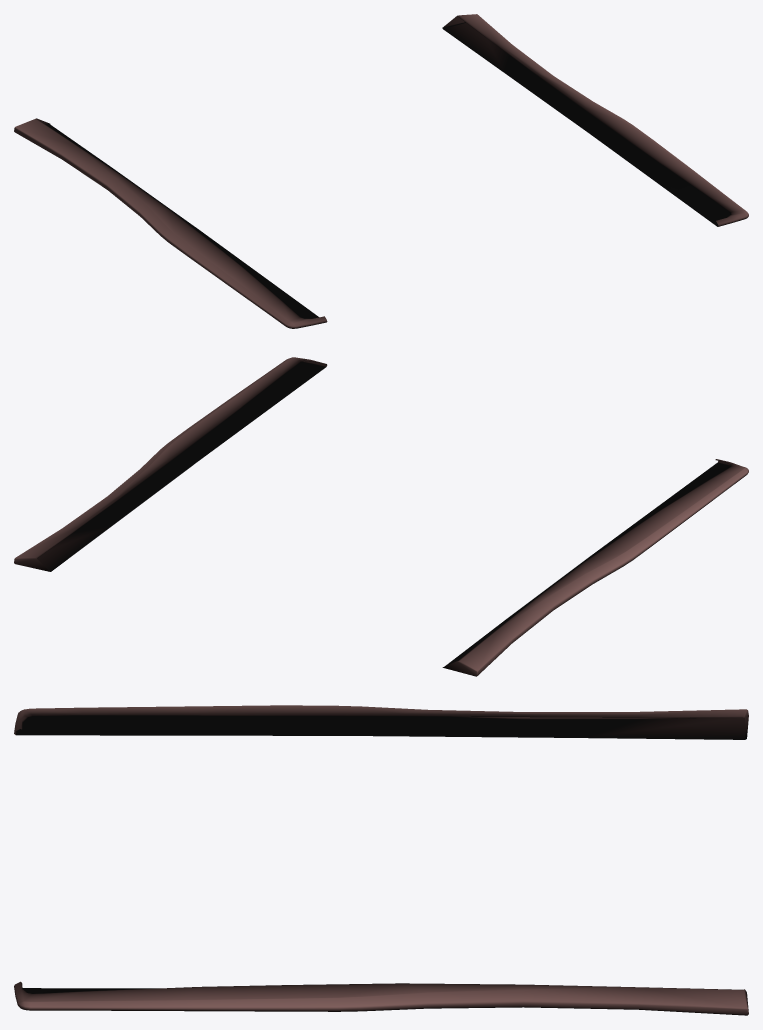
Rendered from Zr1_Skirt_03_Trim.fbx.
3 views of the same model, one above another, from view 1: azimuth 30°, elevation 25°; view 2: azimuth 150°, elevation 25°; view 3: azimuth 270°, elevation 25° (orthographic). The views are drawn at different scales.
Parts seen in each view (by area): view 1: Zr1_Skirt_03_Trim; view 2: Zr1_Skirt_03_Trim; view 3: Zr1_Skirt_03_Trim.
Part boxes in pixels (x1,y1,x2,y2): Zr1_Skirt_03_Trim: [14, 14, 748, 328]; Zr1_Skirt_03_Trim: [14, 357, 748, 676]; Zr1_Skirt_03_Trim: [14, 705, 748, 1015].
Size of the model in its own units: 188 by 5.2 by 193.
